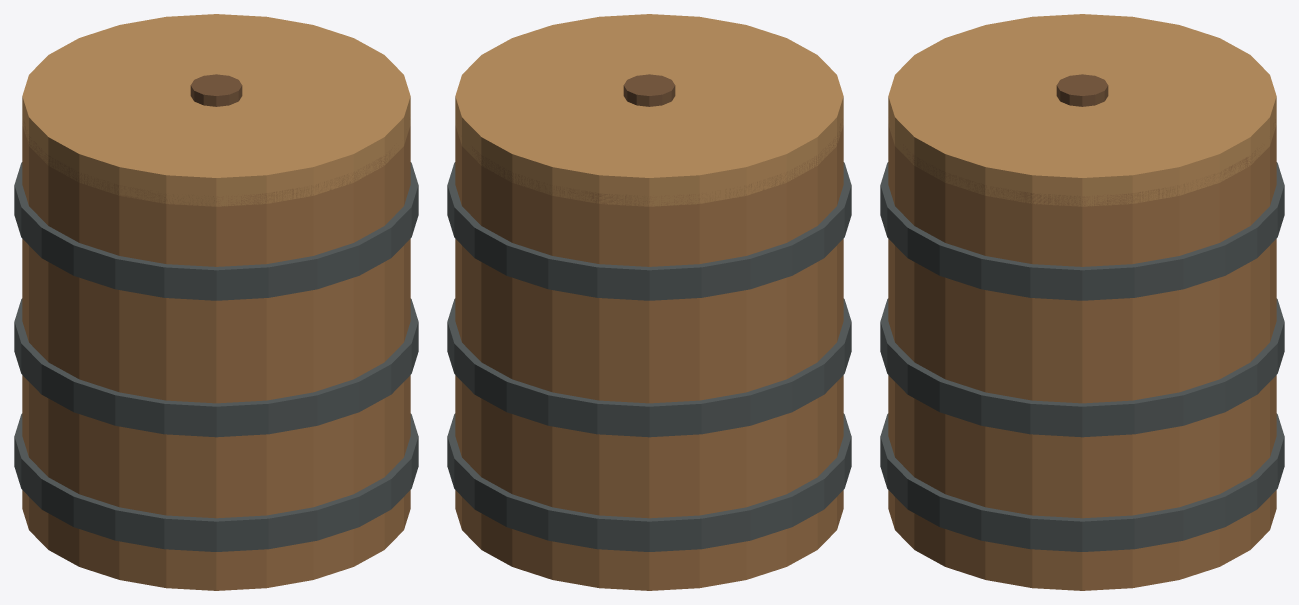
The model's file is wine_barrel.glb.
3 renders of one model, left to right at view 1: azimuth 30°, elevation 25°; view 2: azimuth 150°, elevation 25°; view 3: azimuth 270°, elevation 25°, orthographic.
Parts seen in each view (by area): view 1: Oak barrel, Barrel top, Iron barrel band.001, Iron barrel band.002, Iron barrel band, Barrel bung; view 2: Oak barrel, Barrel top, Iron barrel band.001, Iron barrel band.002, Iron barrel band, Barrel bung; view 3: Oak barrel, Barrel top, Iron barrel band.001, Iron barrel band.002, Iron barrel band, Barrel bung.
Part boxes in pixels (x1,y1,x2,y2): Oak barrel: [22, 119, 410, 590]; Barrel top: [22, 14, 410, 206]; Iron barrel band.001: [14, 298, 418, 437]; Iron barrel band.002: [14, 162, 418, 300]; Iron barrel band: [14, 413, 418, 551]; Barrel bung: [190, 74, 242, 106]; Oak barrel: [455, 119, 843, 590]; Barrel top: [455, 14, 843, 206]; Iron barrel band.001: [447, 298, 851, 437]; Iron barrel band.002: [447, 162, 851, 300]; Iron barrel band: [447, 413, 851, 551]; Barrel bung: [623, 74, 675, 106]; Oak barrel: [888, 119, 1276, 590]; Barrel top: [888, 14, 1276, 206]; Iron barrel band.001: [880, 298, 1284, 437]; Iron barrel band.002: [880, 162, 1284, 300]; Iron barrel band: [880, 413, 1284, 551]; Barrel bung: [1056, 74, 1108, 106].
Size of the model in its own units: 1.02 by 1.18 by 1.02.
